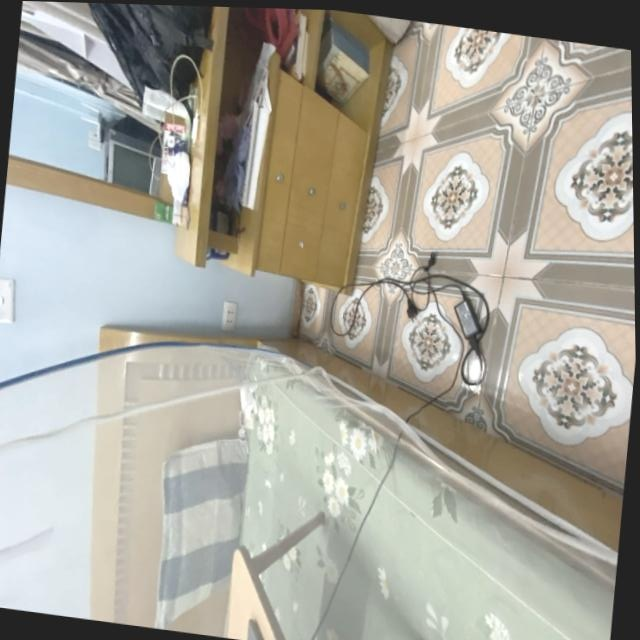outlet: (220, 301, 238, 333)
